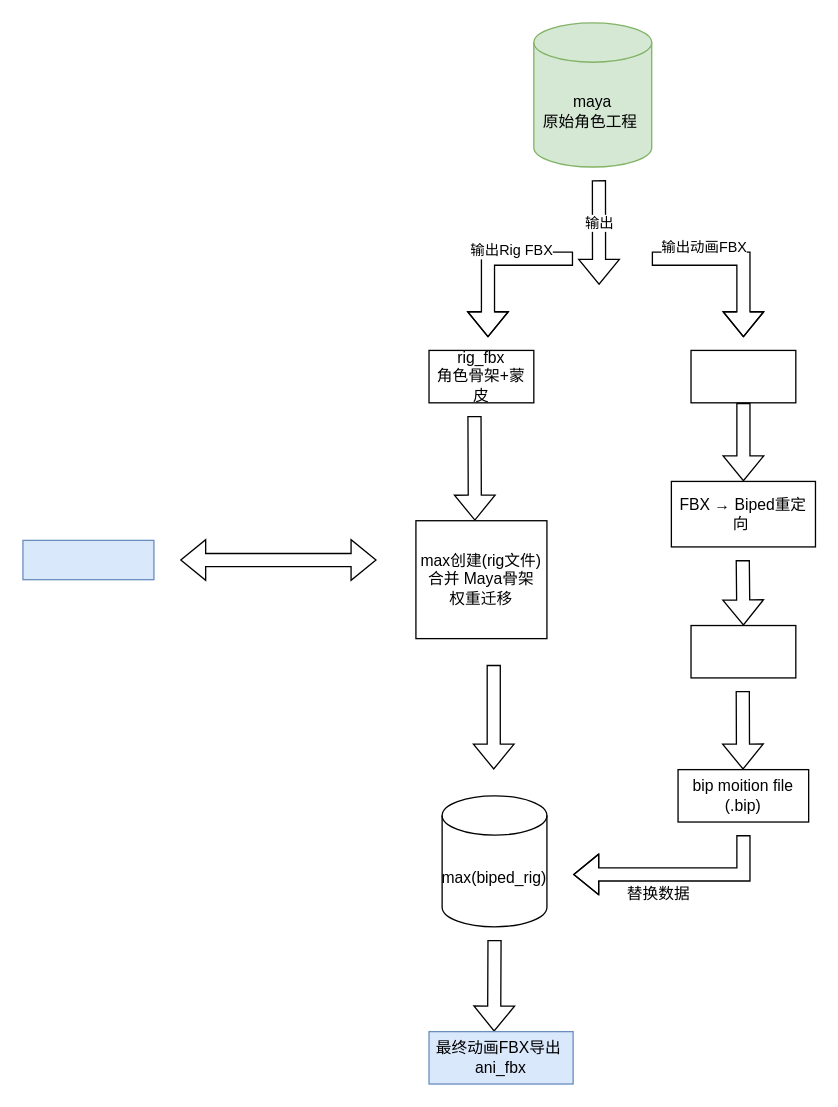
Image size: 838x1107. Some labels were removed from this diagram. The shapes that lost their labels are listed below. From the top down, each one's centre as x and y in pixels, then its label:
At point (743, 376): "(ani_fbx) 动画骨架数据".
At point (88, 559): "fbx (rig数据)".
At point (743, 651): "bip 动画 (.max)".
